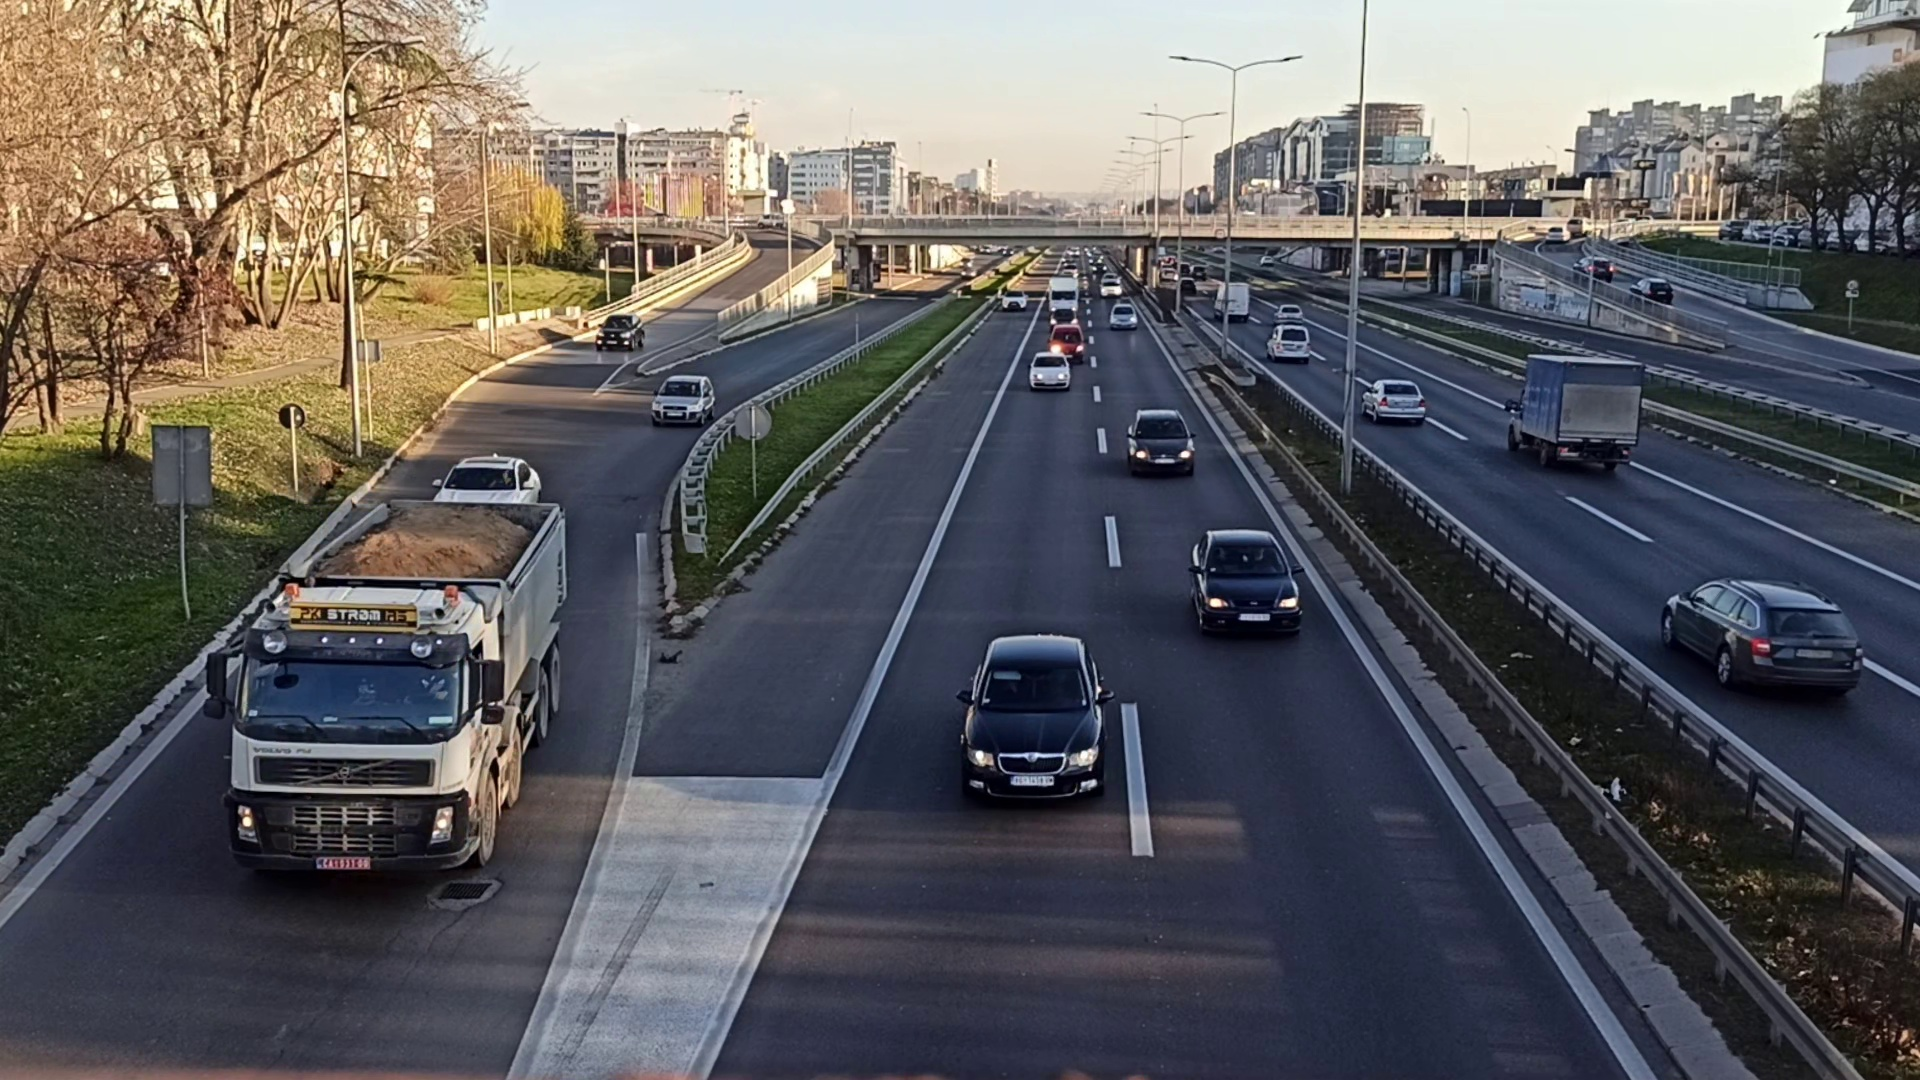car: (1658, 572, 1865, 700), (960, 634, 1113, 807), (1187, 529, 1302, 647), (435, 451, 545, 516), (1127, 406, 1195, 477), (651, 369, 720, 429), (1360, 375, 1425, 426), (595, 313, 646, 353), (1265, 324, 1311, 363), (1030, 353, 1067, 389), (1048, 324, 1084, 360), (1109, 305, 1139, 331), (1050, 309, 1077, 328), (1274, 303, 1302, 322)
truck: (223, 498, 564, 887), (1498, 352, 1646, 472), (1048, 277, 1077, 316)
